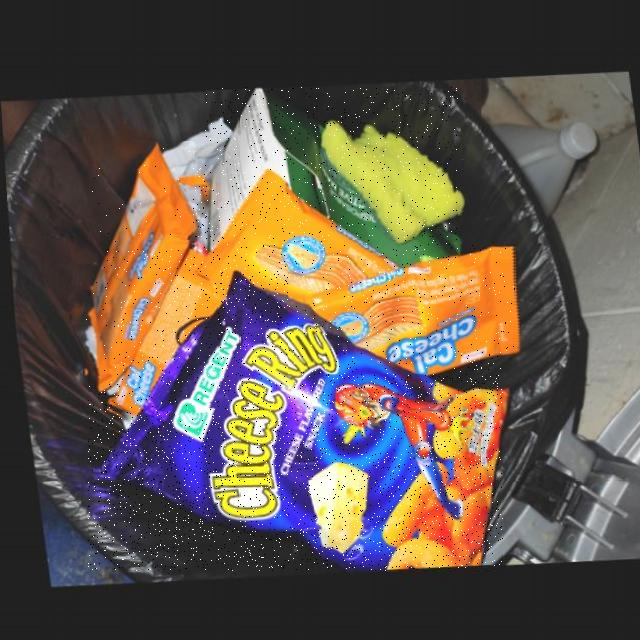paper: (205, 88, 458, 265)
wrapper: (88, 271, 503, 571), (289, 244, 515, 374), (84, 142, 193, 392), (193, 168, 397, 298), (103, 249, 218, 415)
